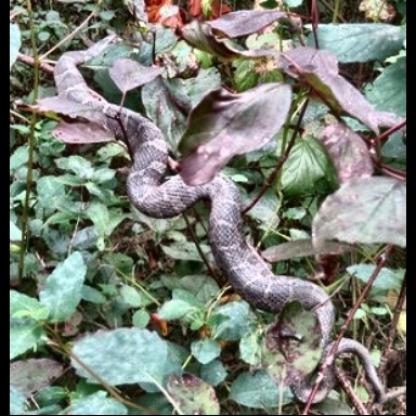Snake: (45, 5, 372, 260), (38, 21, 232, 242)
